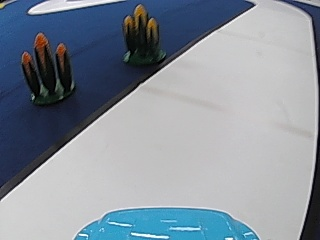corn: (21, 32, 76, 103), (122, 2, 165, 66)
